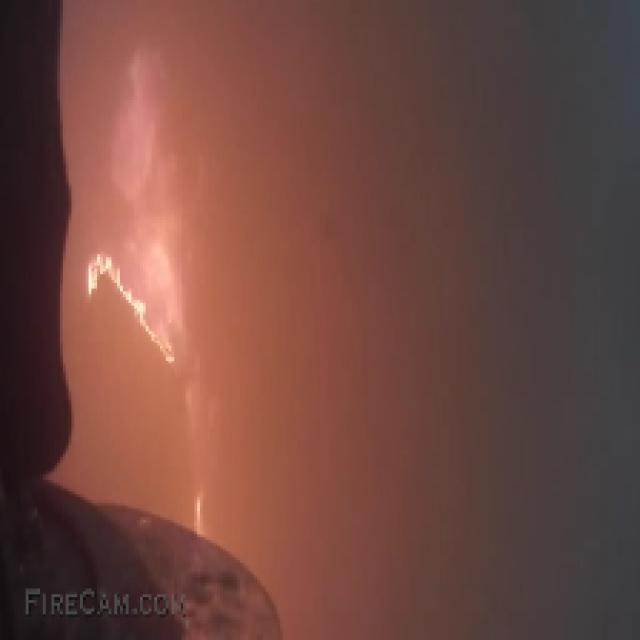Fire: (72, 40, 274, 549)
Smoke: (57, 3, 637, 640)
